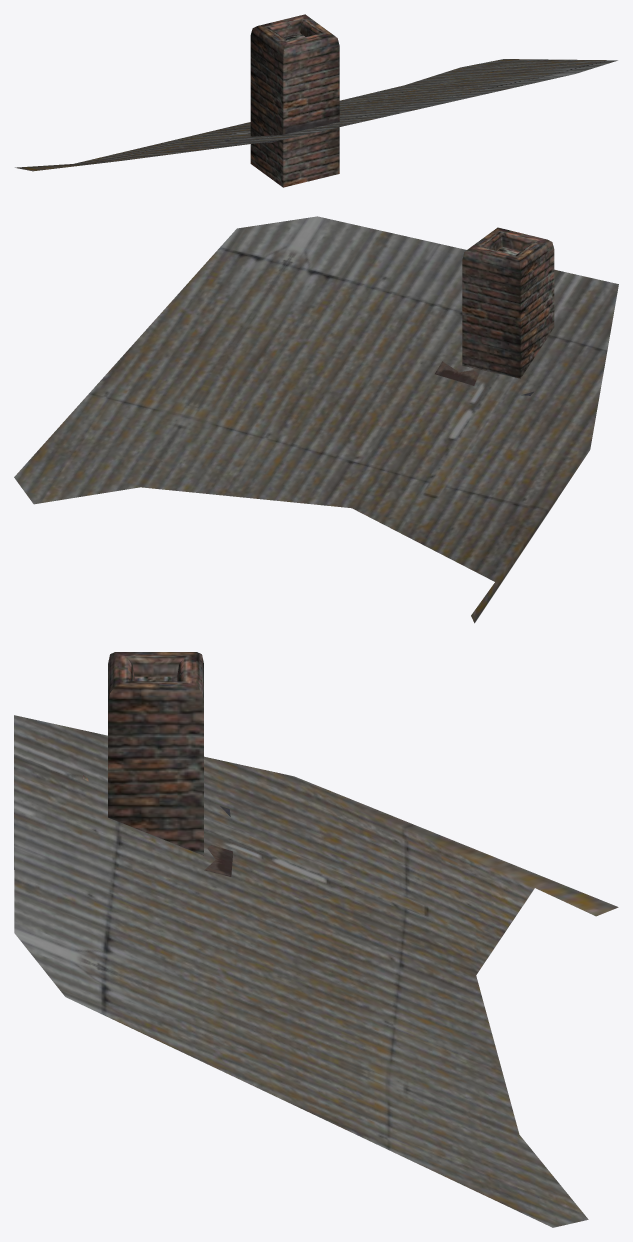
Rendered from House_03_13.fbx.
3 renders of one model, top to bottom at view 1: azimuth 30°, elevation 25°; view 2: azimuth 150°, elevation 25°; view 3: azimuth 270°, elevation 25°, orthographic. The views are drawn at different scales.
Parts seen in each view (by area): view 1: Дом2.013; view 2: Дом2.013; view 3: Дом2.013.
Part boxes in pixels (<box>): Дом2.013: <box>15,14,617,187</box>; Дом2.013: <box>14,216,618,623</box>; Дом2.013: <box>14,652,618,1227</box>.
Size of the model in its own units: 12.27 by 5.56 by 9.28.
1 material, 1 textured.
